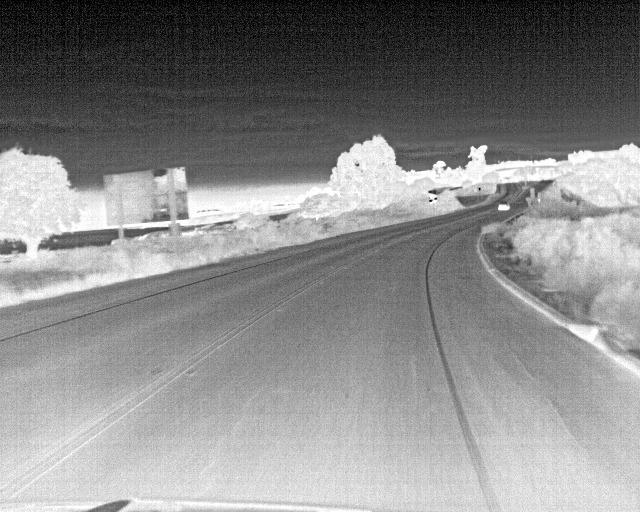car: (495, 198, 509, 213)
